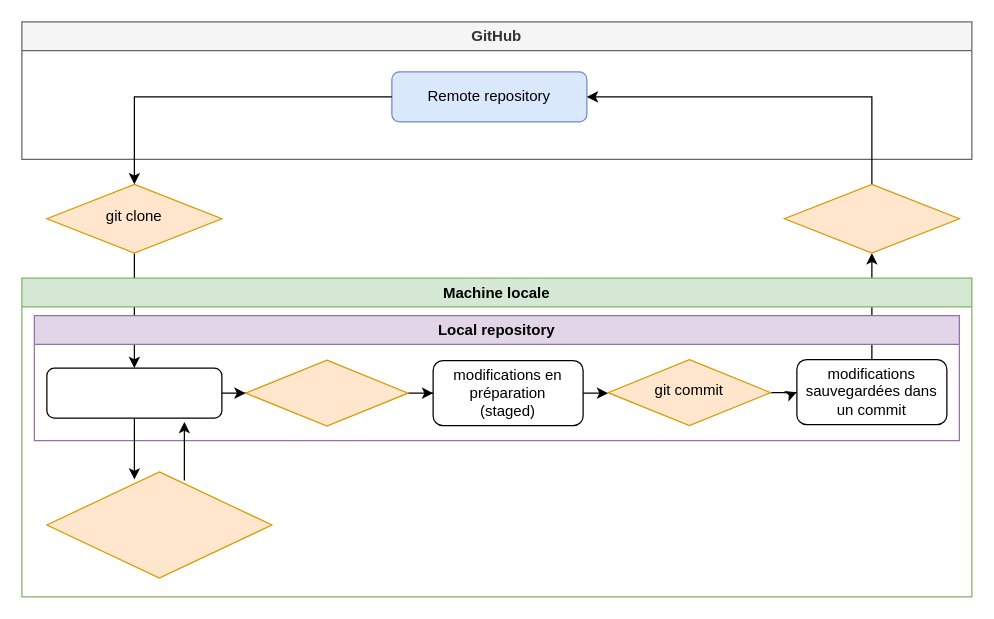
This 994x619 diagram has some shape labels left out. The centre of each missing label's shape, as x and y in pixels:
"git add ." belongs at (x=326, y=392).
"git push" belongs at (x=871, y=218).
"Modifications avec VSCode" belongs at (x=159, y=524).
"Sources sur le disque dur" belongs at (x=134, y=392).
